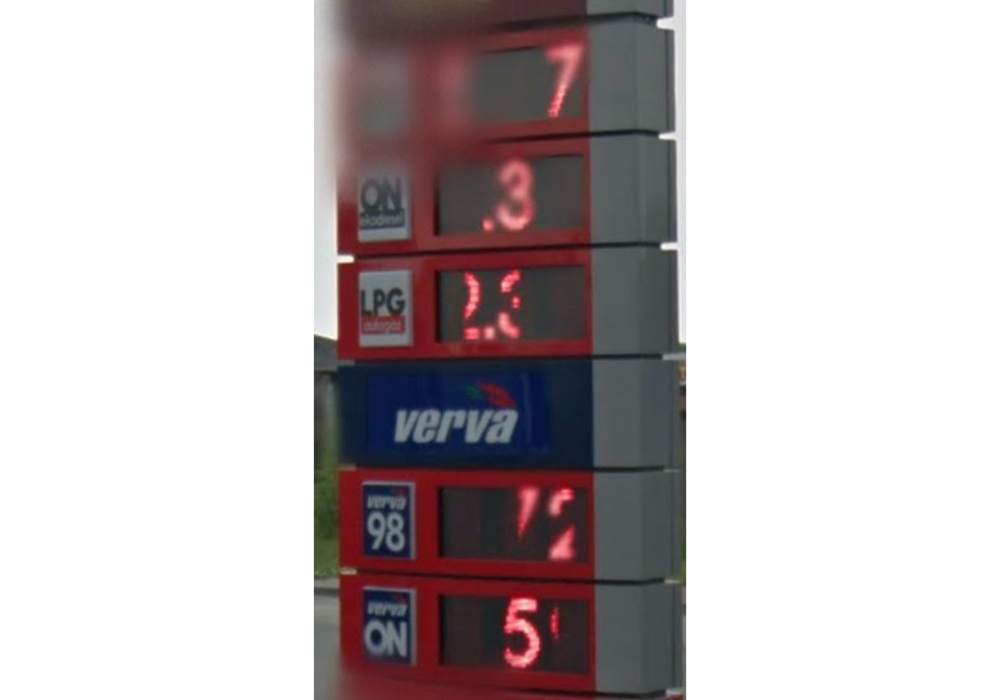LPG: (355, 264, 414, 353)
ON: (360, 580, 419, 667), (357, 165, 413, 243)
PB98: (359, 479, 418, 564)
